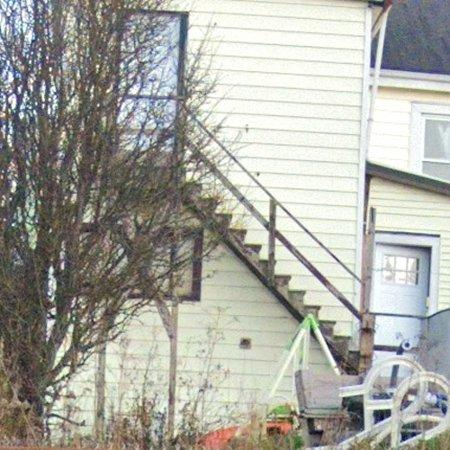stairs: (183, 146, 362, 323), (321, 324, 359, 373)
